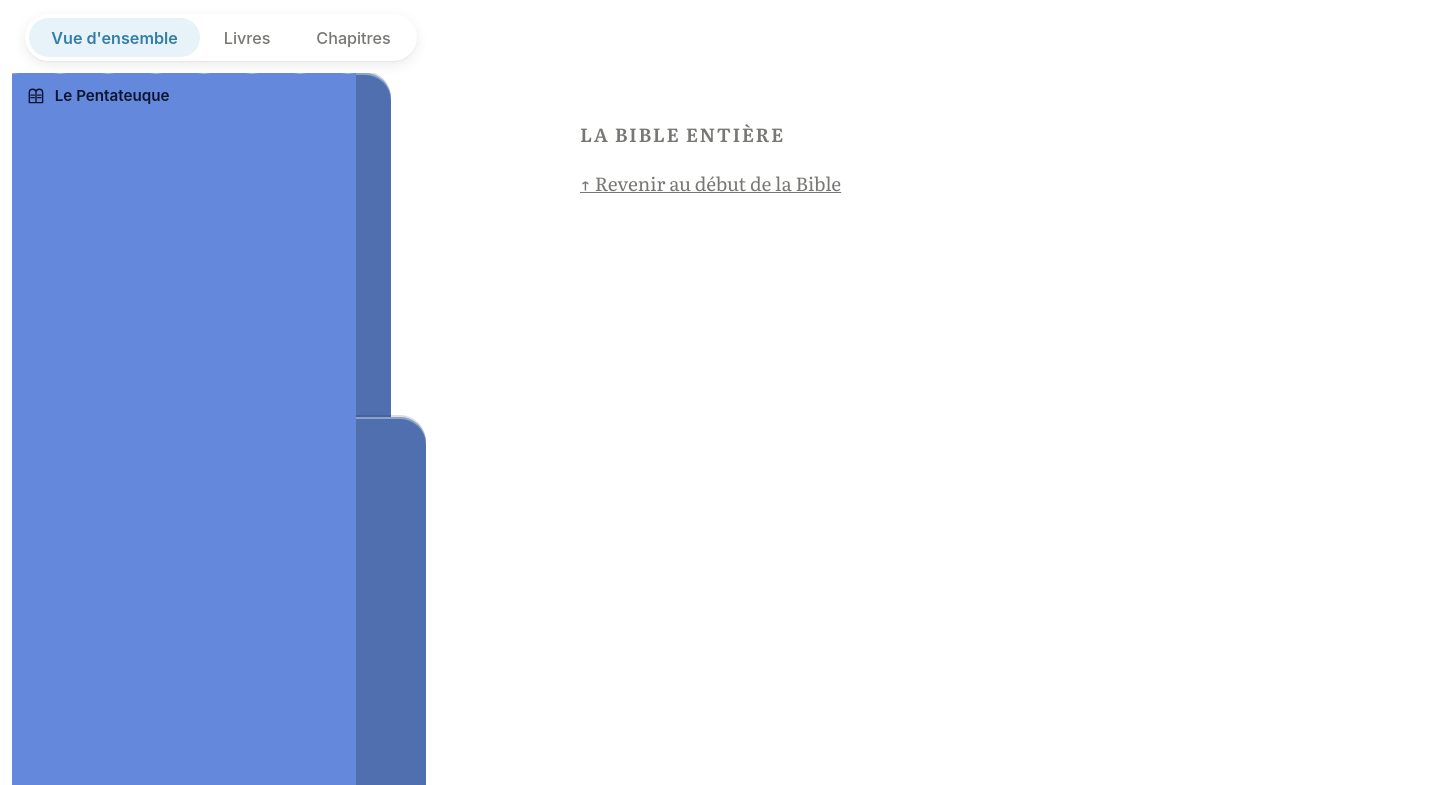
BiblePage › « Revenir au début » recommence vraiment à la Genèse (pas au chapitre du lien)
Click the link "↑ Revenir au début de la Bible" at (711, 183), box left=580, top=169, right=841, bottom=197
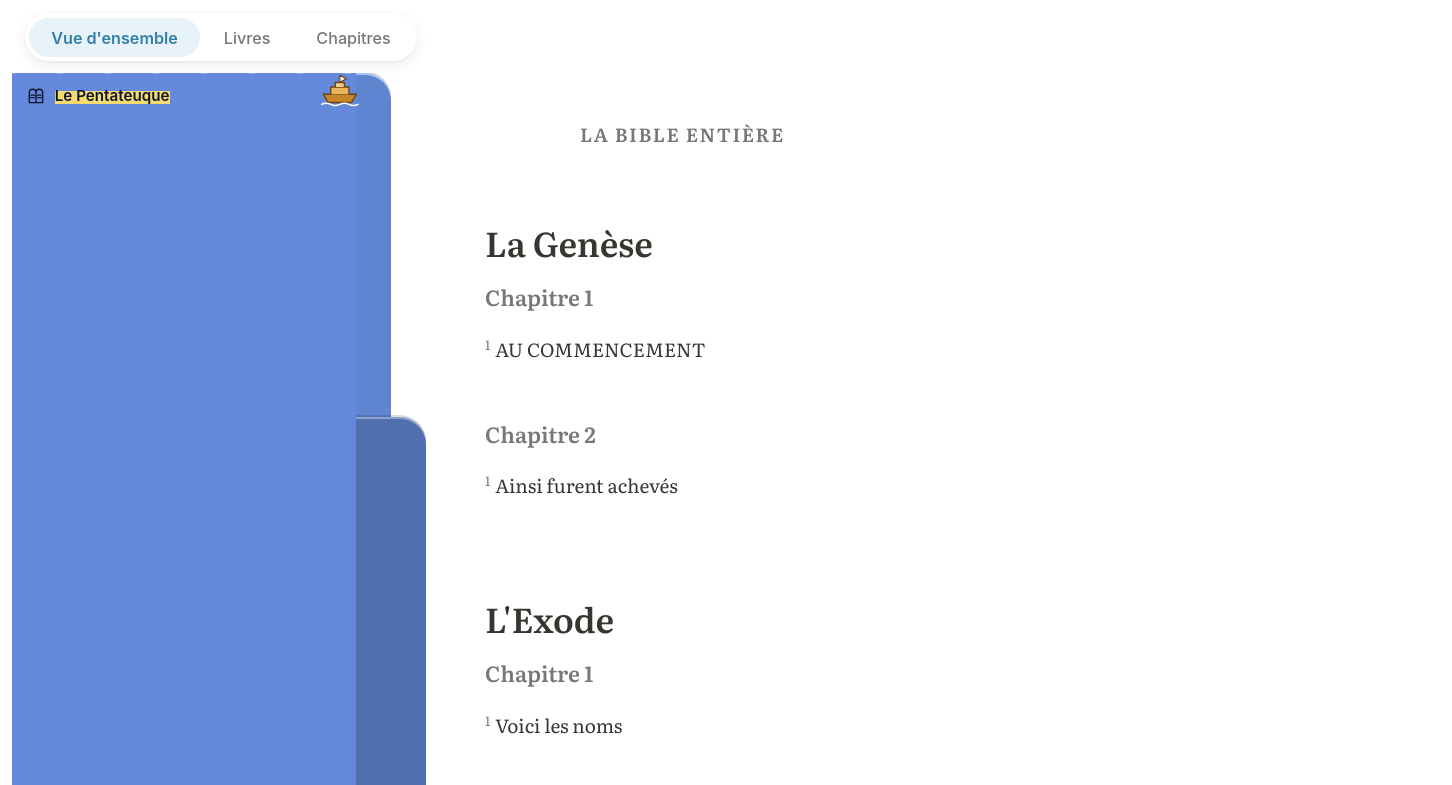
Expected: the heading "La Genèse" is shown, left=485, top=217, right=653, bottom=268
Expected: the link "Revenir au début de la Bible" is gone
